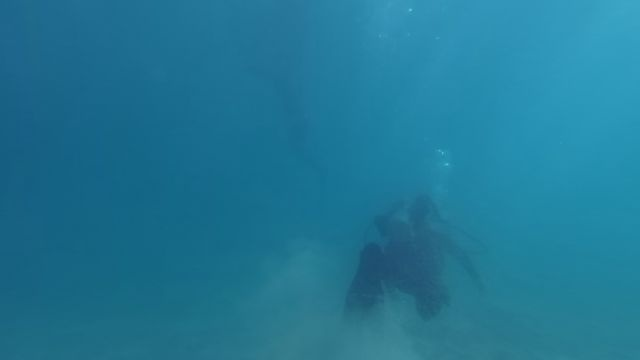Diver: (334, 185, 496, 320)
